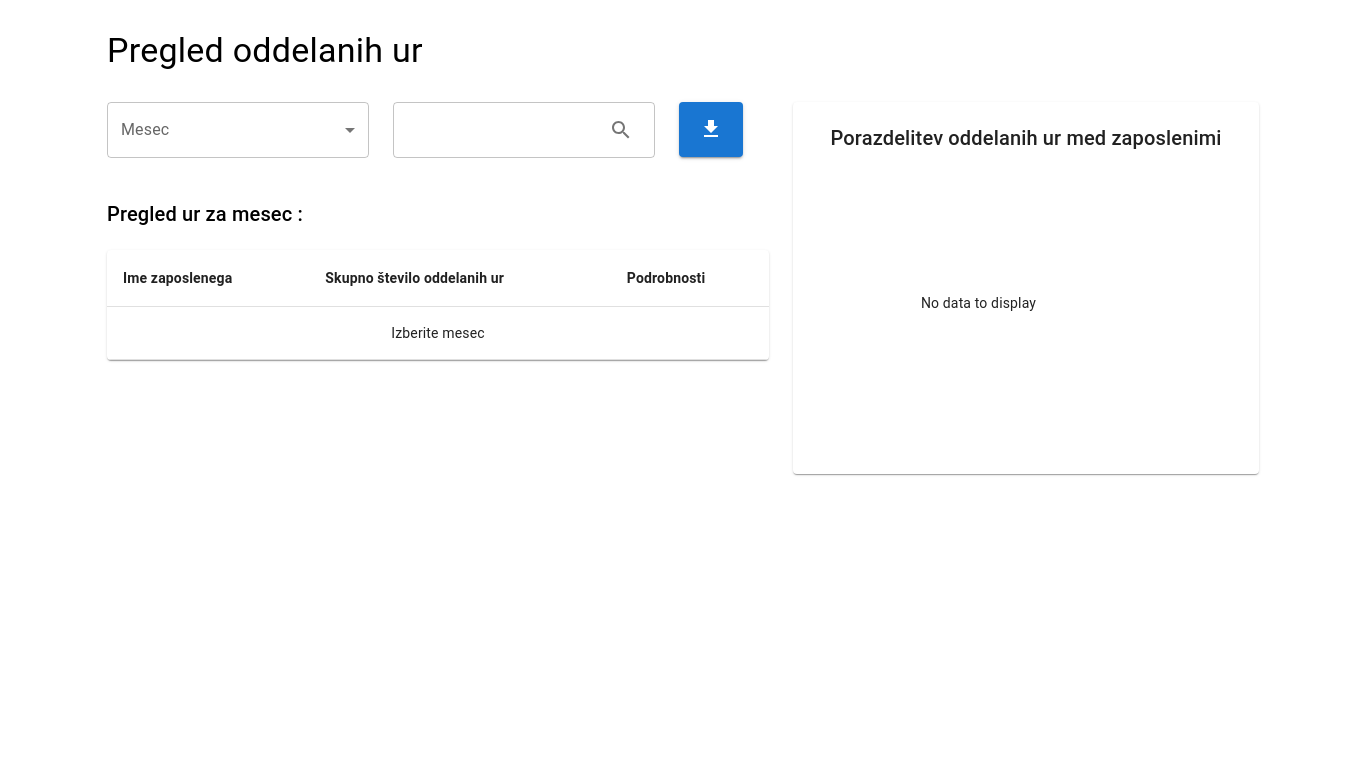
Test case: Overview Component › shows error message if data fetching fails
Press the mouse on the dropdown named "mesec" at (238, 130), box [107,102,369,158]
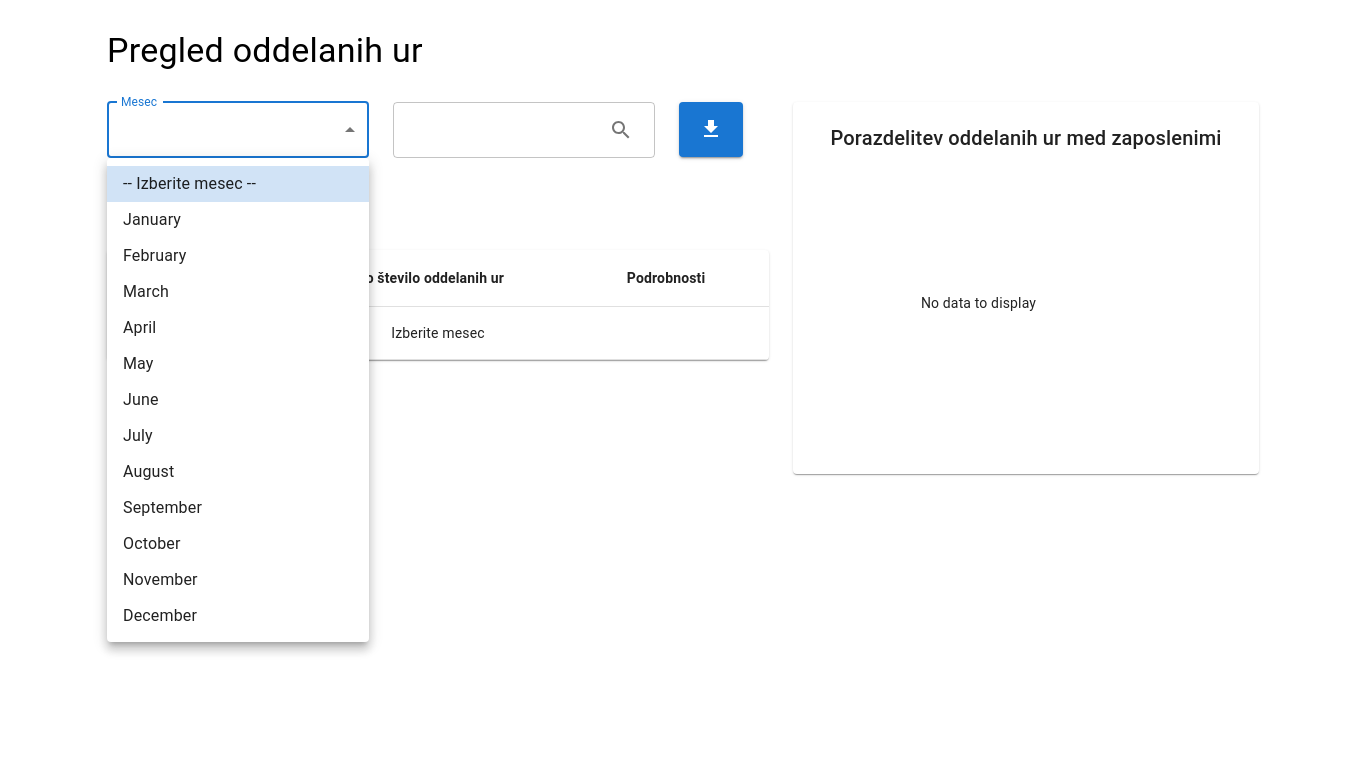
Click the option "January" at (152, 220), box [123,210,181,229]
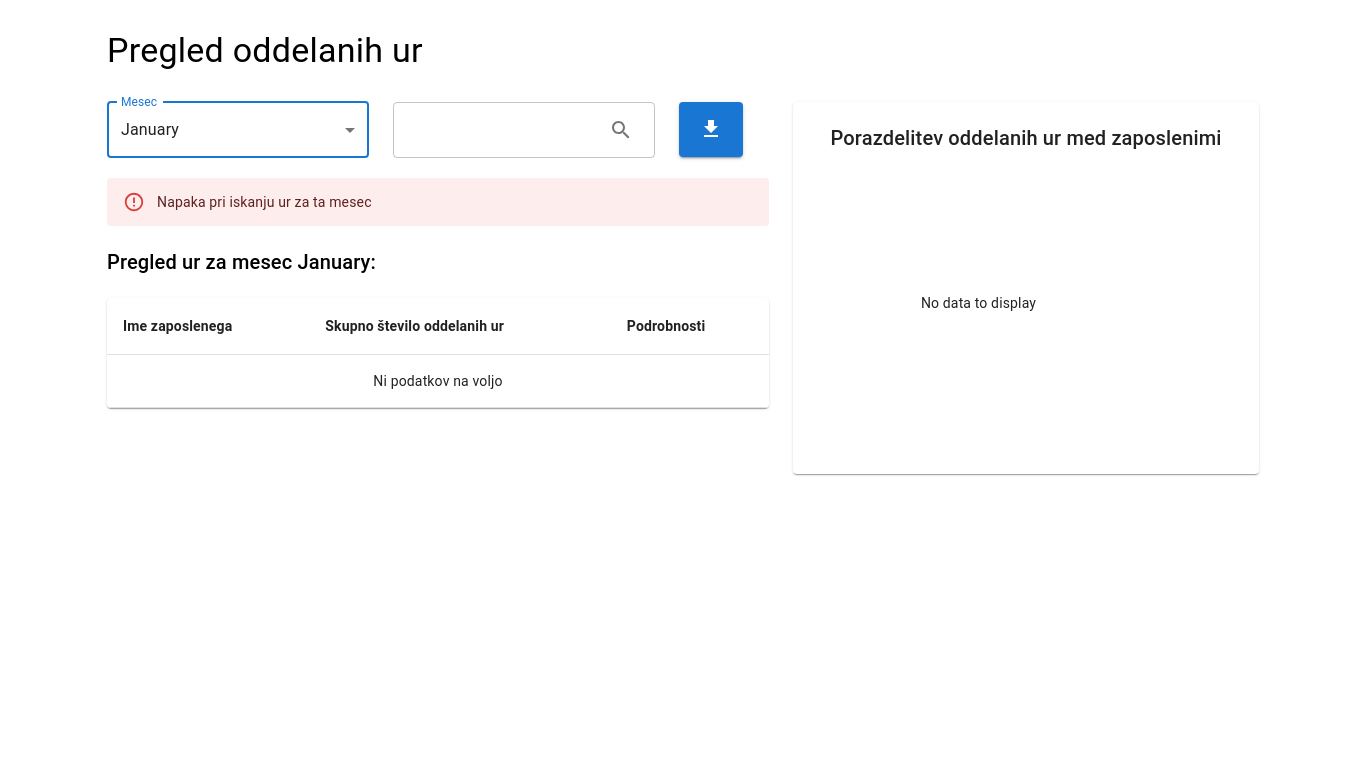
Expected: the text "Napaka pri iskanju ur za ta mesec" is shown, [157,194,372,210]
